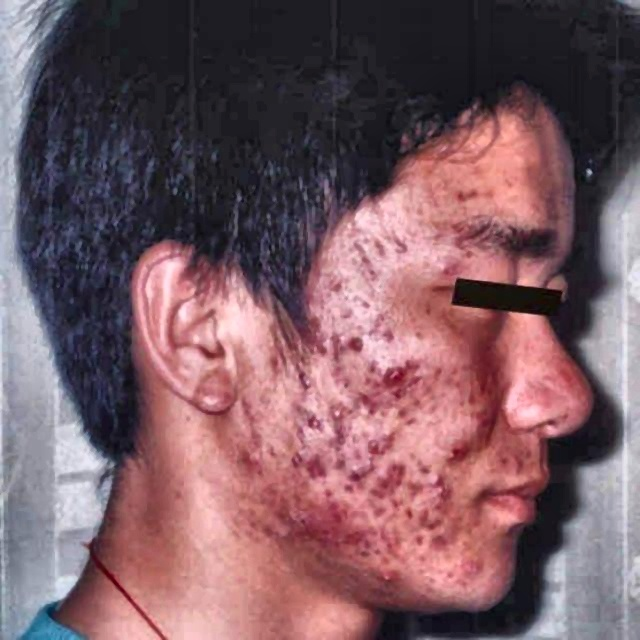nodule: (296, 300, 336, 334), (369, 560, 404, 598), (336, 525, 374, 559), (374, 358, 412, 389), (513, 382, 556, 409), (356, 383, 388, 418), (356, 422, 392, 453), (440, 423, 469, 461), (453, 544, 481, 582), (324, 360, 355, 394), (281, 502, 316, 531), (374, 520, 406, 550), (310, 329, 339, 360), (280, 450, 317, 472), (428, 525, 456, 553), (396, 400, 426, 426), (326, 272, 356, 298), (342, 328, 367, 358), (426, 460, 445, 499), (554, 362, 578, 392), (242, 440, 266, 469), (364, 464, 398, 484), (456, 185, 484, 209), (507, 444, 531, 472), (331, 420, 353, 450), (400, 479, 427, 502), (388, 496, 419, 516), (385, 227, 404, 259), (469, 406, 493, 431), (347, 243, 379, 261), (424, 362, 446, 388), (286, 424, 309, 448), (286, 389, 311, 411), (266, 324, 290, 346), (342, 460, 363, 485), (292, 369, 318, 389), (433, 256, 459, 276), (318, 489, 342, 510), (369, 509, 395, 528), (362, 486, 389, 504), (412, 531, 431, 556), (442, 357, 463, 378), (444, 231, 466, 251), (414, 510, 444, 524), (334, 302, 355, 322), (313, 454, 332, 476), (266, 351, 284, 374), (369, 306, 387, 328), (462, 386, 480, 408), (304, 408, 318, 436), (407, 323, 426, 343), (408, 201, 426, 222), (419, 574, 442, 590), (360, 263, 379, 282), (325, 401, 345, 419), (235, 394, 254, 412), (288, 354, 312, 368), (376, 323, 398, 337), (447, 375, 465, 392), (402, 446, 420, 463), (412, 457, 426, 478), (409, 585, 424, 603), (452, 392, 467, 409), (355, 298, 373, 312), (446, 484, 460, 495)
